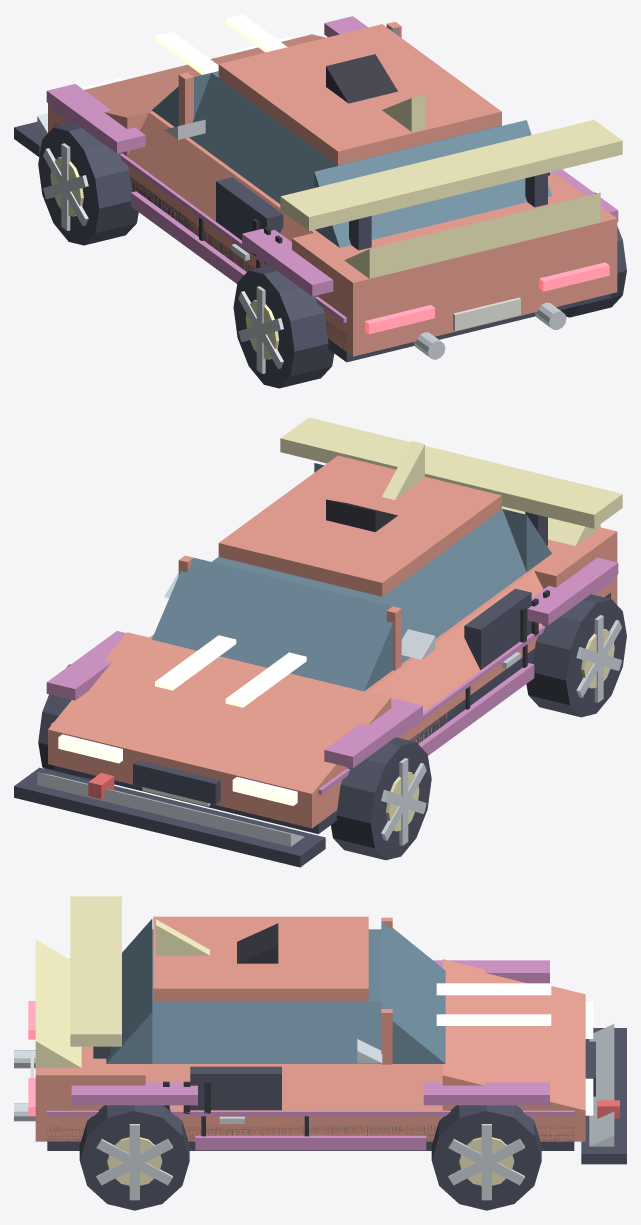
The model's file is cornerfire.glb.
3 views of the same model, one above another, from view 1: azimuth 30°, elevation 25°; view 2: azimuth 150°, elevation 25°; view 3: azimuth 270°, elevation 25° (orthographic). The views are drawn at different scales.
Visible parts, largest first — view 1: Roof.293, Tail.093, RearWing.056, Body.293, CabinSideL.090, RearWindow.193, Ducktail.065, Wheel_RL.253, Wheel_FL.253, ShoulderL.090, Nose.090, Arch-1False.169 (+30 smaller); view 2: Nose.090, Roof.293, Windshield.193, RearWing.056, CabinSideL.090, Body.293, Splitter.060, Wheel_FL.253, Wheel_RL.253, ShoulderL.090, Bumper.289, AirIntake-1.056 (+25 smaller); view 3: Roof.293, CabinSideR.090, Nose.090, ShoulderR.090, RearWing.056, Body.293, Windshield.193, Wheel_FR.253, Wheel_RR.253, Ducktail.065, RearWindow.193, AirIntake1.056 (+25 smaller).
Boxes of the visible parts, x1,y1,x2,y2 form: Roof.293: (218,24,501,165); Tail.093: (292,174,617,321); RearWing.056: (280,120,622,230); Body.293: (48,103,617,356); CabinSideL.090: (189,73,338,203); RearWindow.193: (314,120,551,247); Ducktail.065: (344,192,600,278); Wheel_RL.253: (233,265,334,388); Wheel_FL.253: (38,122,138,245); ShoulderL.090: (127,112,313,241); Nose.090: (84,34,325,156); Arch-1False.169: (46,84,145,153); Nose.090: (48,632,391,793); Roof.293: (218,455,501,596); Windshield.193: (152,557,393,691); RearWing.056: (280,417,622,528); CabinSideL.090: (375,509,526,663); Body.293: (48,575,617,828); Splitter.060: (14,767,325,867); Wheel_FL.253: (331,737,431,860); Wheel_RL.253: (526,594,626,717); ShoulderL.090: (370,571,543,712); Bumper.289: (37,772,304,846); AirIntake-1.056: (464,588,531,669); Roof.293: (153,916,368,1001); CabinSideR.090: (152,1001,381,1063); Nose.090: (442,959,585,1110); ShoulderR.090: (145,1065,442,1110); RearWing.056: (70,896,121,1046); Body.293: (35,1110,585,1141); Windshield.193: (381,922,445,1063); Wheel_FR.253: (431,1105,541,1210); Wheel_RR.253: (79,1105,189,1210); Ducktail.065: (35,939,81,1067); RearWindow.193: (106,919,152,1063); AirIntake1.056: (190,1066,281,1110).
Bounding box in the file's own units: 3.1 × 2.08 × 5.35.
